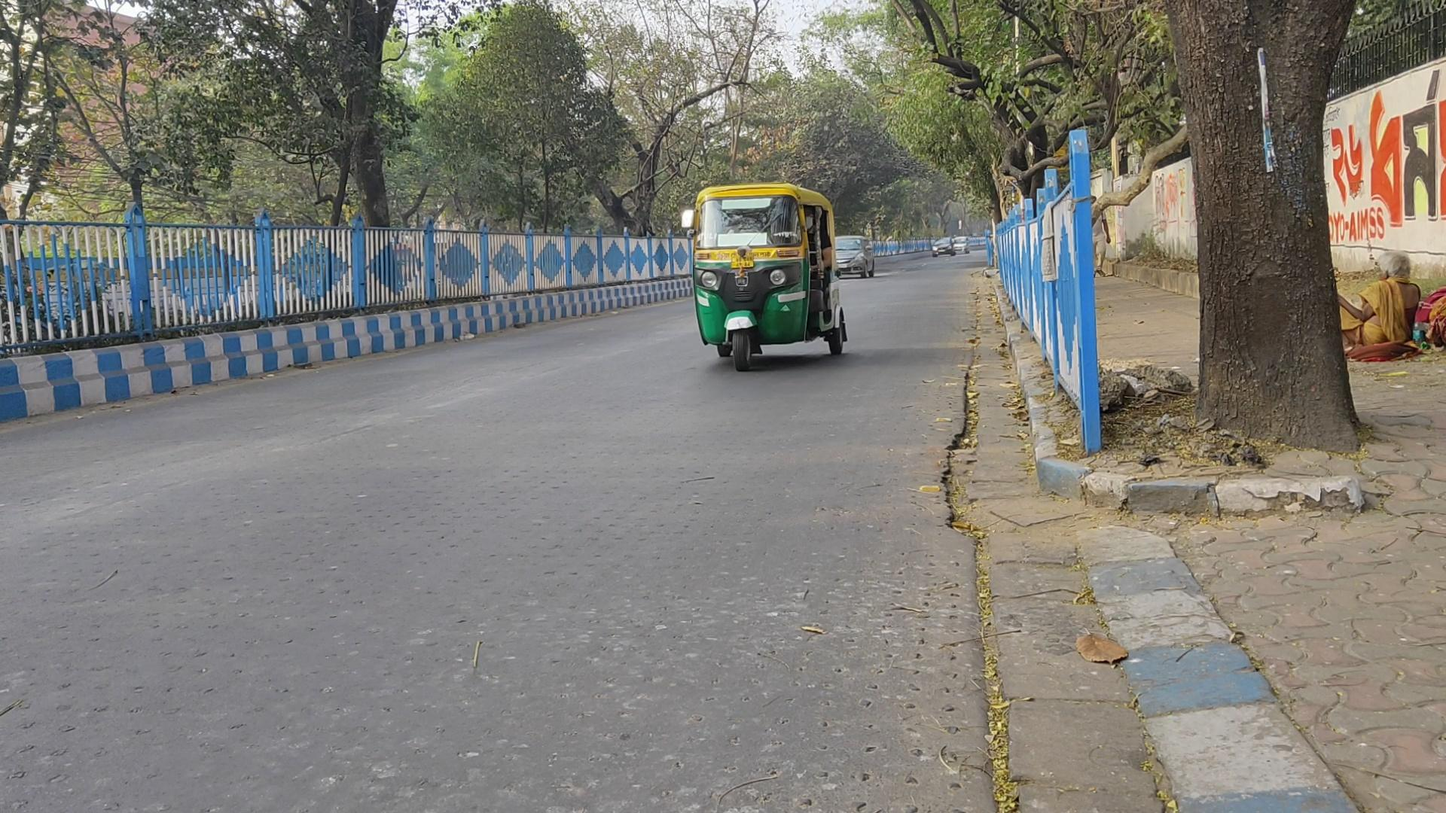Auto: (682, 183, 850, 373)
car: (831, 233, 876, 280), (932, 236, 955, 257), (951, 236, 972, 254)
